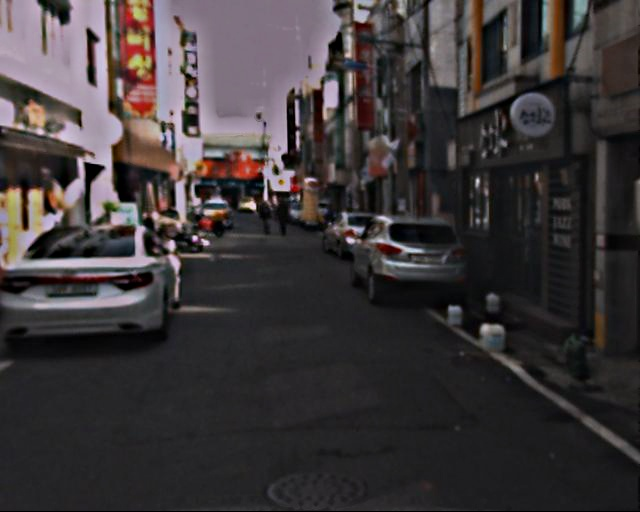person: (276, 194, 294, 239), (259, 198, 276, 239)
